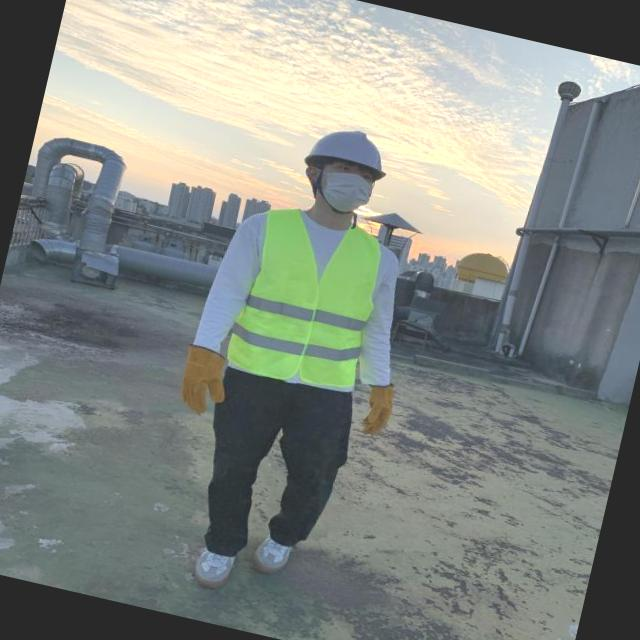gloves: (161, 333, 246, 428), (348, 364, 406, 446)
helmet: (302, 120, 396, 182)
no-boots: (247, 532, 294, 579), (190, 546, 238, 592)
vest: (224, 201, 390, 395)
